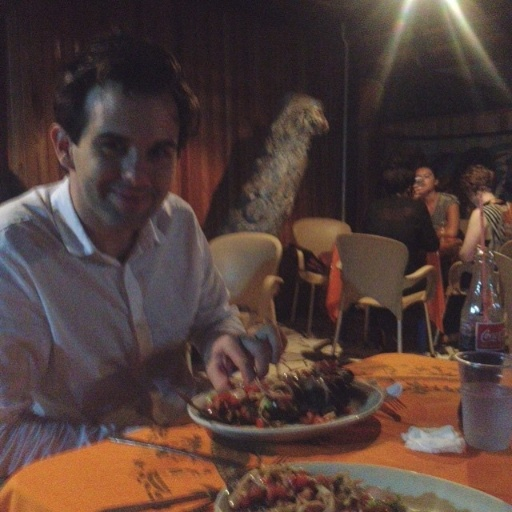hand: (203, 331, 264, 387), (407, 184, 424, 200)
